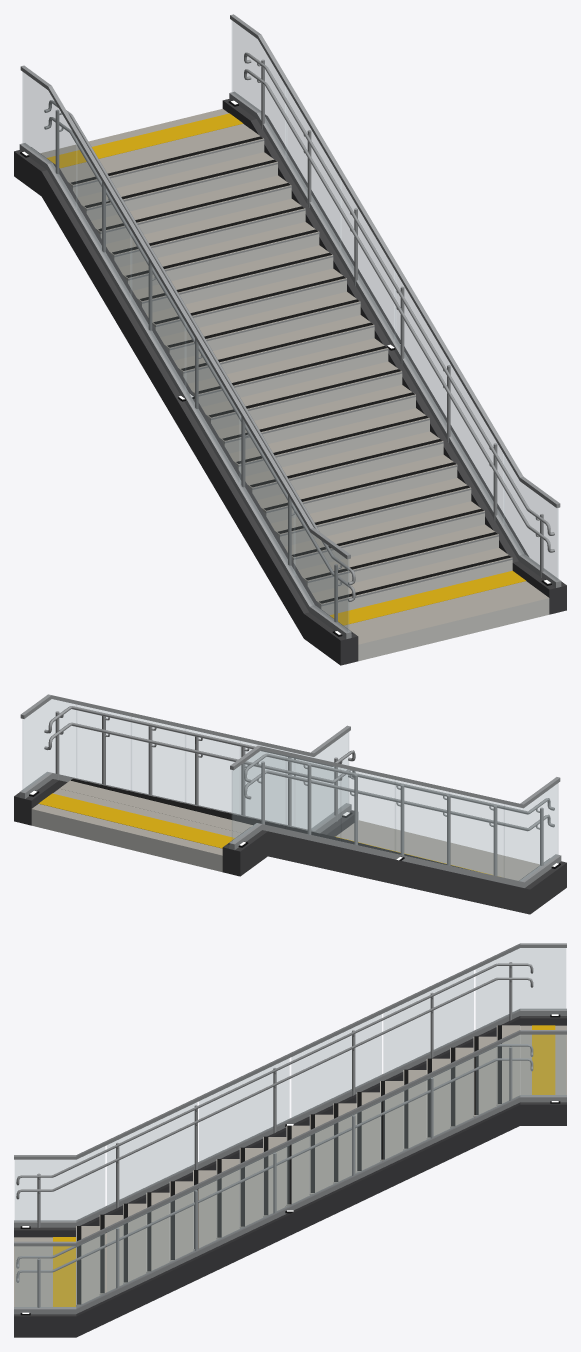
File: gteki_stairs_straight_w2400_r3000.glb
3 renders of one model, top to bottom at view 1: azimuth 30°, elevation 25°; view 2: azimuth 150°, elevation 25°; view 3: azimuth 270°, elevation 25°, orthographic. The views are drawn at different scales.
Visible parts, largest first — view 1: VIS_body; view 2: VIS_body; view 3: VIS_body.
Boxes of the visible parts, <box> form: VIS_body: <box>14,14,566,665</box>; VIS_body: <box>14,694,566,914</box>; VIS_body: <box>14,943,566,1337</box>.
Size of what is drawn, in the model's own units: 2.84 by 4.3 by 7.1.
Materials: 2 (2 with a texture image).
